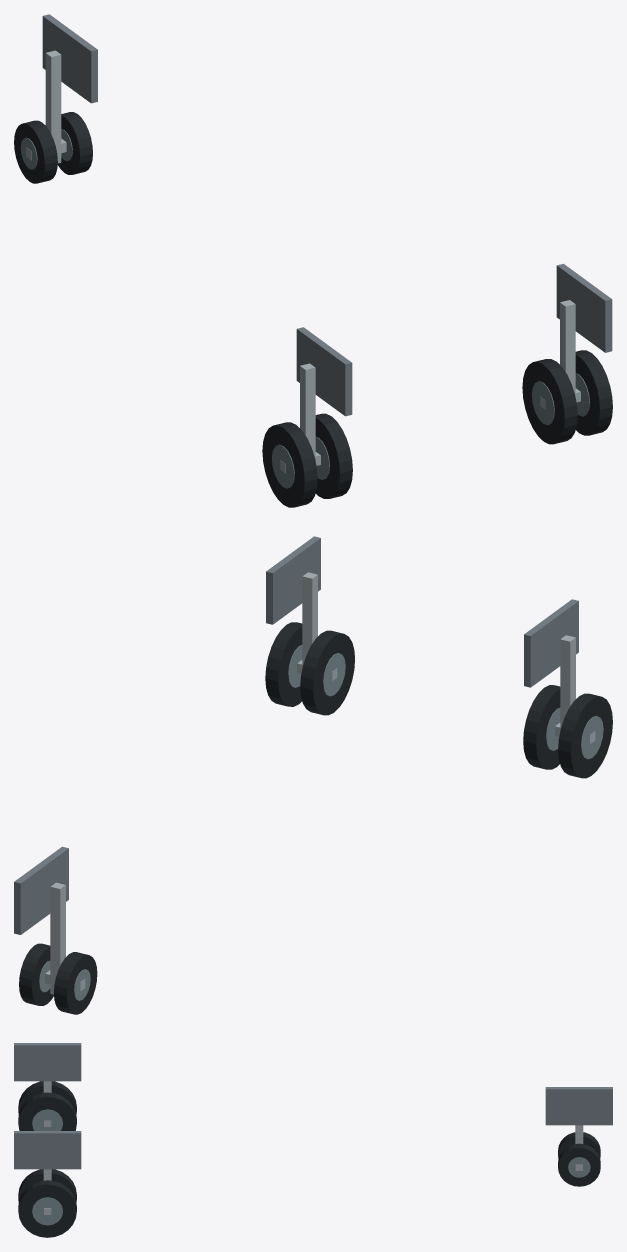
The model's file is j20-flight-kit.glb.
3 views of the same model, one above another, from view 1: azimuth 30°, elevation 25°; view 2: azimuth 150°, elevation 25°; view 3: azimuth 270°, elevation 25° (orthographic). The views are drawn at different scales.
Visible parts, largest first — view 1: Left_Tire, Right_Tire, Right_Door, Left_Door, Nose_Door, Left_Tire.001, Right_Tire.001, Nose_Tire, Nose_Strut, Nose_Tire.001, Right_Strut, Left_Strut (+2 smaller); view 2: Right_Tire, Left_Tire, Left_Door, Right_Door, Nose_Door, Left_Tire.001, Right_Tire.001, Nose_Tire, Nose_Strut, Nose_Tire.001, Right_Strut, Left_Strut (+2 smaller); view 3: Left_Door, Nose_Door, Right_Door, Right_Tire.001, Left_Tire.001, Nose_Tire.001, Left_Tire, Right_Hub.001, Right_Tire, Left_Hub.001, Nose_Tire, Nose_Hub.001.
Part boxes in pixels (<box>): Left_Tire: <box>262,422,317,507</box>; Right_Tire: <box>522,359,577,444</box>; Right_Door: <box>556,263,612,352</box>; Left_Door: <box>296,327,352,416</box>; Nose_Door: <box>42,14,97,103</box>; Left_Tire.001: <box>315,413,352,498</box>; Right_Tire.001: <box>575,350,612,435</box>; Nose_Tire: <box>14,120,57,183</box>; Nose_Strut: <box>45,50,61,163</box>; Nose_Tire.001: <box>57,112,92,174</box>; Right_Strut: <box>560,300,575,396</box>; Left_Strut: <box>300,363,315,459</box>; Right_Tire: <box>300,630,354,715</box>; Left_Tire: <box>558,693,612,778</box>; Left_Door: <box>524,599,578,687</box>; Right_Door: <box>266,536,320,624</box>; Nose_Door: <box>14,846,68,934</box>; Left_Tire.001: <box>523,685,560,769</box>; Right_Tire.001: <box>265,622,302,706</box>; Nose_Tire: <box>54,952,97,1014</box>; Nose_Strut: <box>50,882,65,994</box>; Nose_Tire.001: <box>19,943,53,1005</box>; Right_Strut: <box>302,572,317,667</box>; Left_Strut: <box>560,635,575,730</box>; Left_Door: <box>14,1043,81,1081</box>; Nose_Door: <box>545,1087,612,1125</box>; Right_Door: <box>14,1131,81,1169</box>; Right_Tire.001: <box>18,1180,76,1237</box>; Left_Tire.001: <box>18,1092,76,1130</box>; Nose_Tire.001: <box>558,1143,600,1186</box>; Left_Tire: <box>18,1081,76,1114</box>; Right_Hub.001: <box>32,1197,62,1225</box>; Right_Tire: <box>18,1169,76,1202</box>; Left_Hub.001: <box>32,1109,62,1130</box>; Nose_Tire: <box>558,1132,600,1158</box>; Nose_Hub.001: <box>568,1157,590,1177</box>.
Size of the model in its own units: 4.05 by 1.86 by 9.8.
